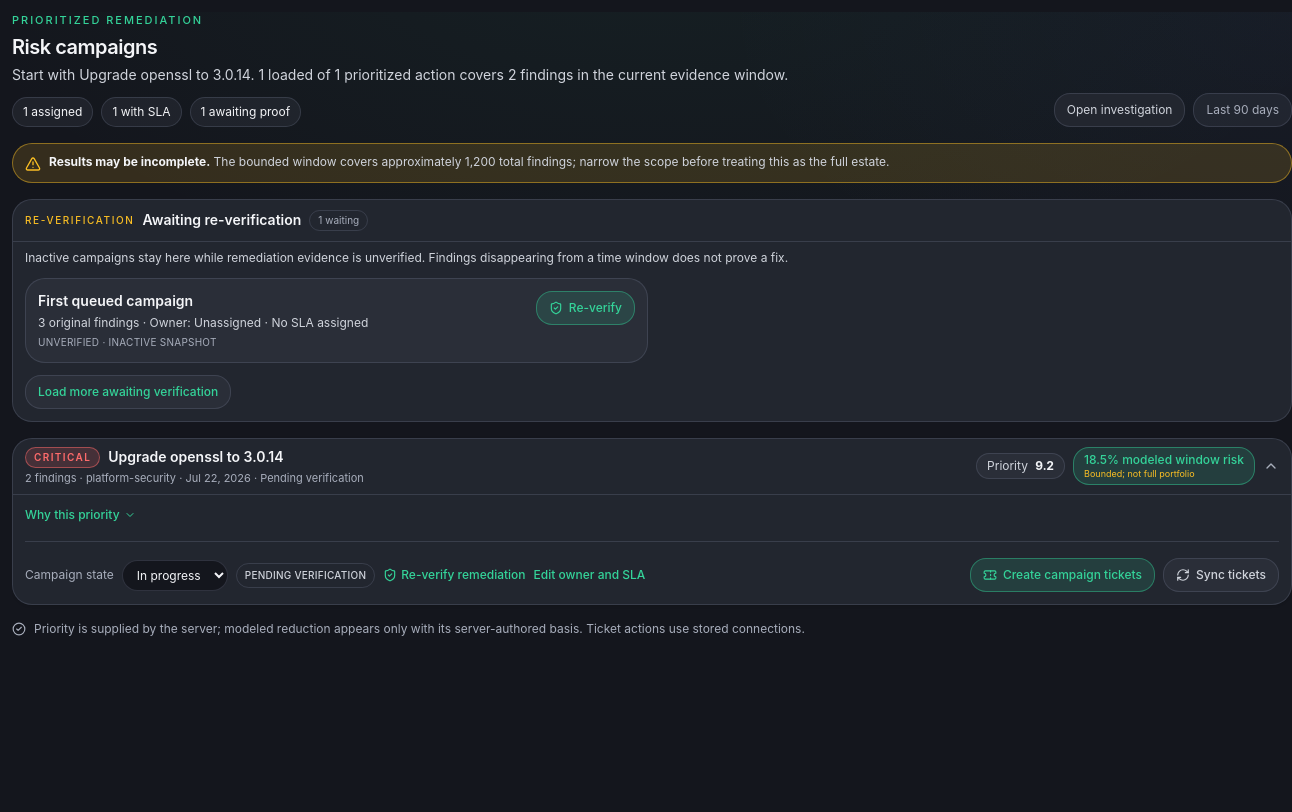
RiskCampaignCommandCenter › continues queue pages, preserves entries on failure, and deduplicates page overlap
The image size is (1292, 812).
Expected: the heading "First queued campaign" is shown, [38,292,193,308]
Click the button "Load more awaiting verification": (128, 392) [25,374,231,408]
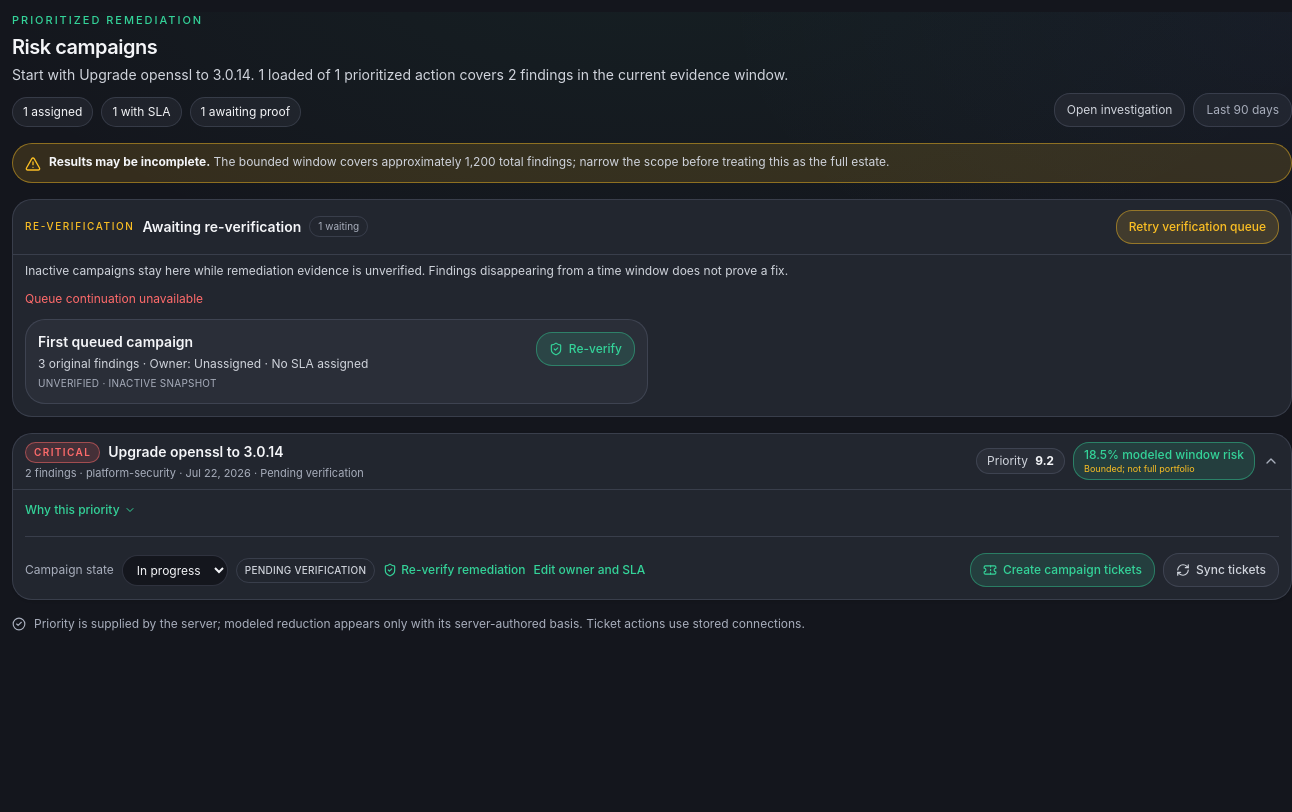
Expected: the heading "First queued campaign" is shown, [38,332,193,350]
Now the text "Queue continuation unavailable" is shown, box [25,290,203,306]
Click the button "Retry verification queue": (1197, 226) [1116,210,1279,244]
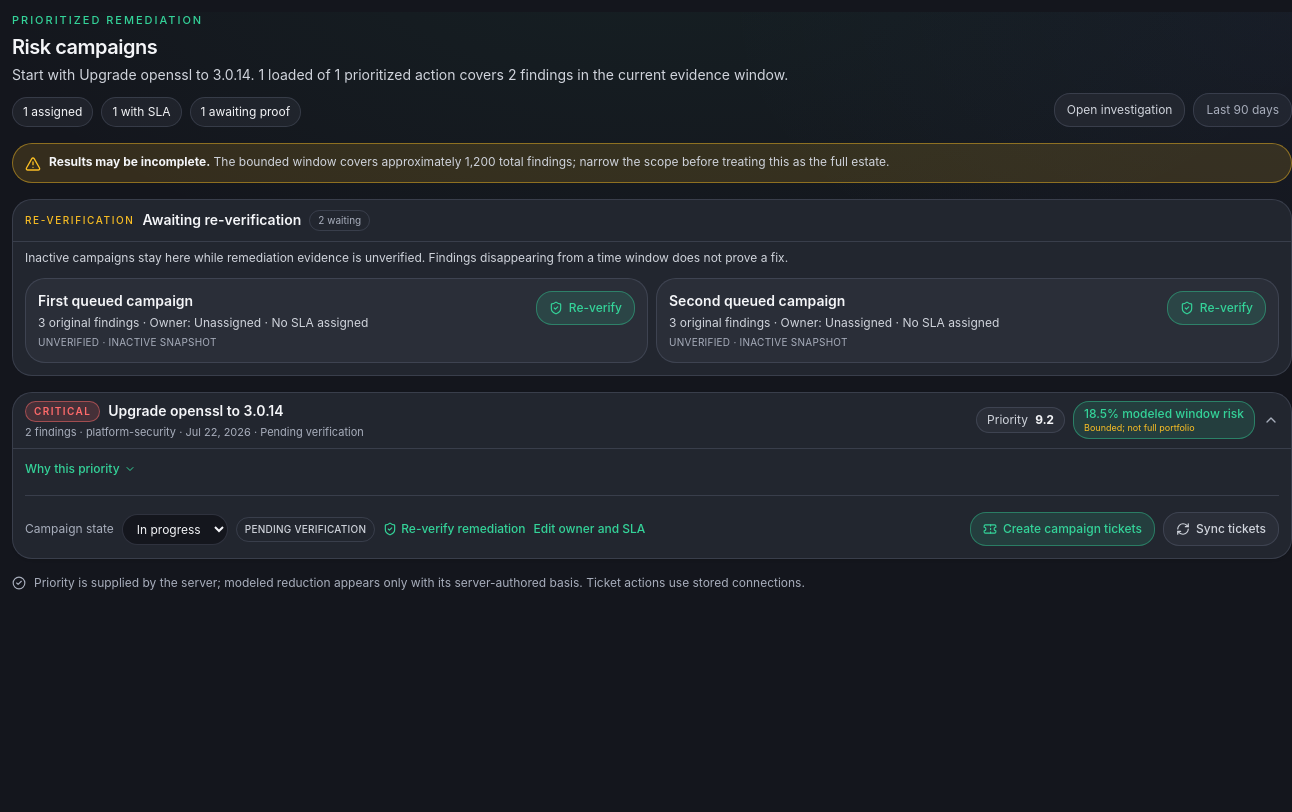
Expected: the button "Load more awaiting verification" is not shown
Now the heading "Second queued campaign" is shown, box [669,292,845,308]
Now the number of headings "First queued campaign" is 1, box [38,292,193,308]
